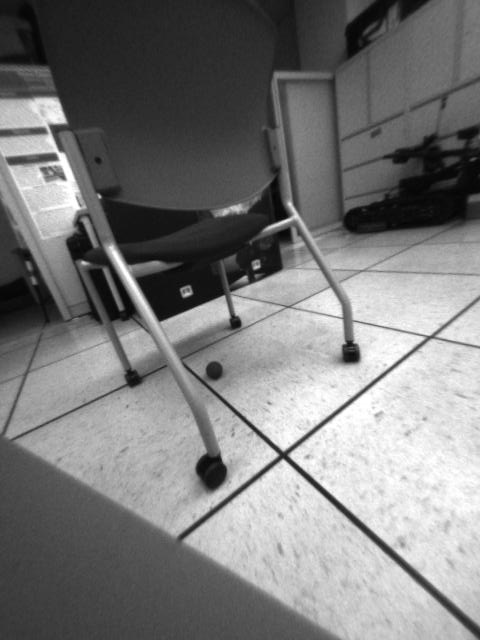dogtoy: (201, 354, 229, 382)
